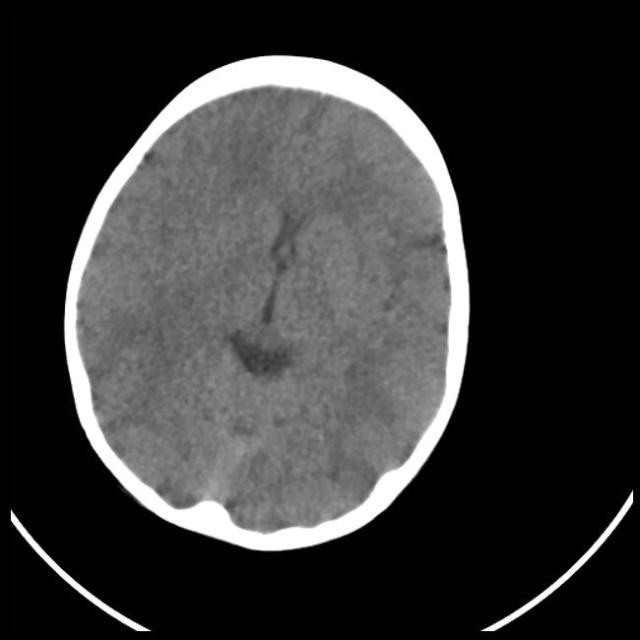lesion: (64, 63, 472, 545)
